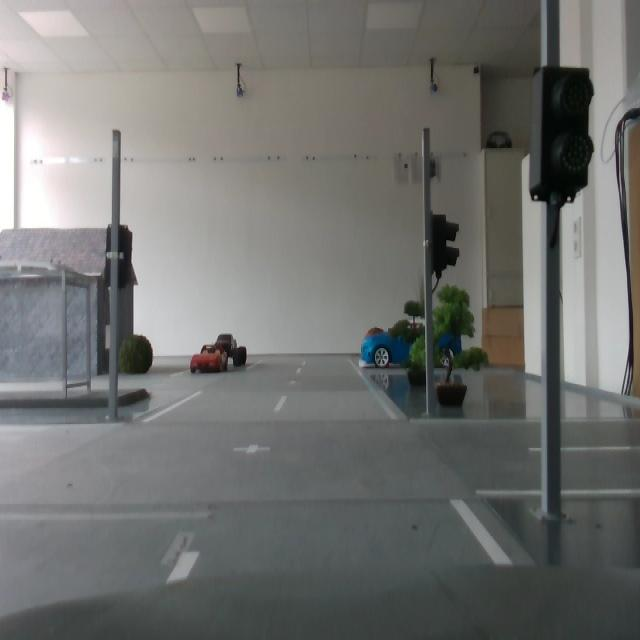car: (359, 319, 463, 369), (211, 334, 249, 369), (191, 343, 230, 377)
potted plant: (410, 285, 493, 409), (390, 300, 428, 387), (120, 334, 155, 376), (417, 272, 431, 352), (365, 327, 388, 357)
traffic light: (529, 65, 595, 206), (431, 213, 460, 278), (106, 223, 134, 290)
